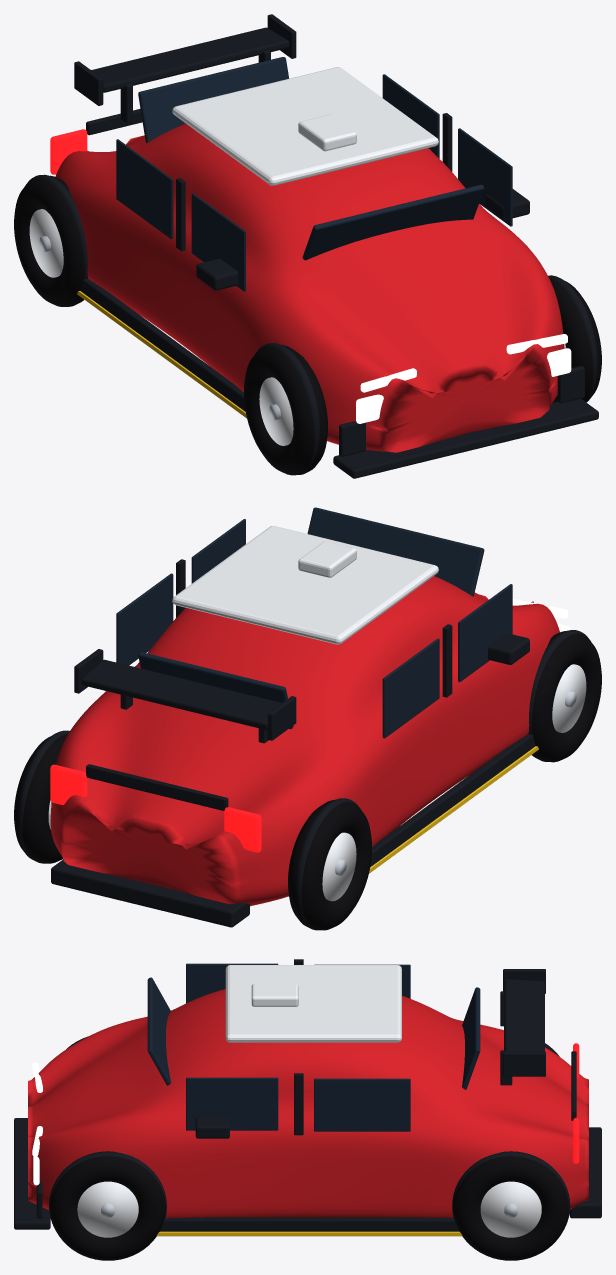
File: mjx7303-v30.glb
3 renders of one model, top to bottom at view 1: azimuth 30°, elevation 25°; view 2: azimuth 150°, elevation 25°; view 3: azimuth 270°, elevation 25°, orthographic. The views are drawn at different scales.
Parts seen in each view (by area): view 1: BODY_SHELL_CONTINUOUS_V30, WhiteRoof, Tire.001, Tire.002, FrontSplitter, Windshield, WingBlade, RearGlass, RearSideGlass-1, Rocker-1, FrontSideGlass-1, FrontSideGlass1 (+19 smaller); view 2: BODY_SHELL_CONTINUOUS_V30, WhiteRoof, Tire.002, WingBlade, Windshield, Tire.001, RearDiffuser, RearSideGlass-1, Tire, RearSideGlass1, Rocker-1, FrontSideGlass-1 (+16 smaller); view 3: BODY_SHELL_CONTINUOUS_V30, WhiteRoof, Tire.003, Tire, RearSideGlass1, FrontSideGlass1, Rocker1, WingBlade, Rim.003, Rim.002, FrontSplitter, YellowSill1 (+12 smaller).
Part boxes in pixels (x1,y1,x2,y2): BODY_SHELL_CONTINUOUS_V30: (55, 123, 564, 452); WhiteRoof: (172, 67, 438, 185); Tire.001: (244, 344, 327, 475); Tire.002: (14, 175, 84, 306); FrontSplitter: (333, 399, 598, 478); Windshield: (302, 184, 484, 260); WingBlade: (91, 27, 289, 92); RearGlass: (138, 57, 288, 143); RearSideGlass-1: (116, 139, 173, 239); Rocker-1: (80, 279, 245, 411); FrontSideGlass-1: (191, 193, 245, 291); FrontSideGlass1: (458, 128, 512, 226); BODY_SHELL_CONTINUOUS_V30: (50, 576, 559, 906); WhiteRoof: (172, 526, 438, 644); Tire.002: (288, 800, 371, 930); WingBlade: (81, 659, 281, 729); Windshield: (307, 507, 484, 596); Tire.001: (531, 631, 601, 762); RearDiffuser: (51, 859, 249, 927); RearSideGlass-1: (382, 638, 439, 738); Tire: (14, 734, 67, 863); RearSideGlass1: (116, 573, 173, 665); Rocker-1: (370, 734, 535, 866); FrontSideGlass-1: (458, 584, 512, 681); BODY_SHELL_CONTINUOUS_V30: (28, 989, 588, 1218); WhiteRoof: (225, 965, 401, 1042); Tire.003: (50, 1151, 165, 1260); Tire: (453, 1151, 568, 1260); RearSideGlass1: (314, 1078, 410, 1131); FrontSideGlass1: (186, 1077, 278, 1130); Rocker1: (160, 1217, 459, 1231); WingBlade: (504, 979, 544, 1051); Rim.003: (480, 1181, 541, 1237); Rim.002: (77, 1181, 138, 1237); FrontSplitter: (14, 1118, 50, 1229); YellowSill1: (157, 1231, 462, 1236).
Size of the model in its own units: 2.98 by 2.16 by 5.47.
